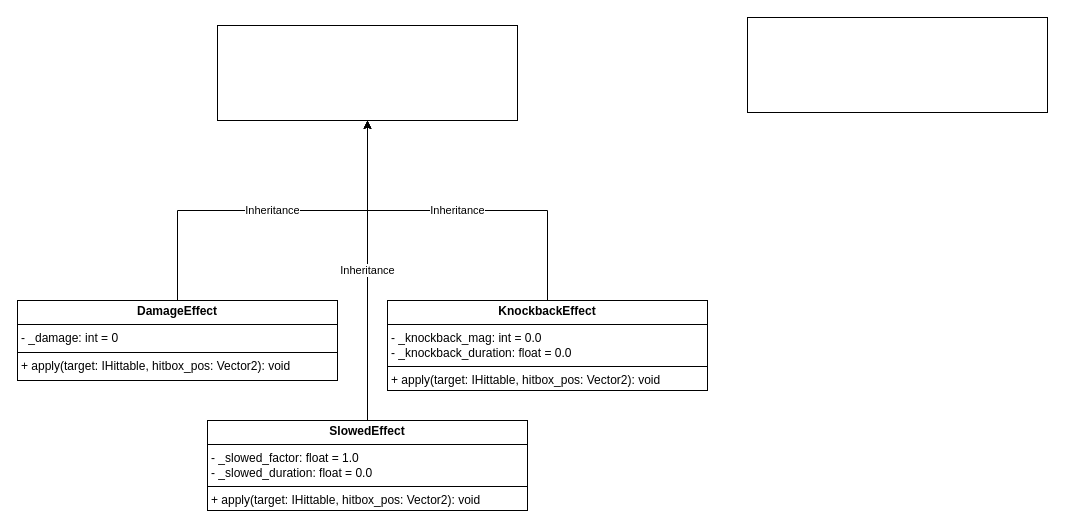
The diagram is 1065 pixels wide and 528 high, and some of its shapes have lost their labels. Here are the shapes that lost their labels. From the top down, the centre of each, then its label:
At (x=367, y=72): "<<abstract>> ToolEffect +apply(target: CombatUnit, hitbox_pos: Vector2): void".
At (x=897, y=64): "<<abstract>> StatComponent +apply(target: CombatUnit, hitbox_pos: Vector2): void".
